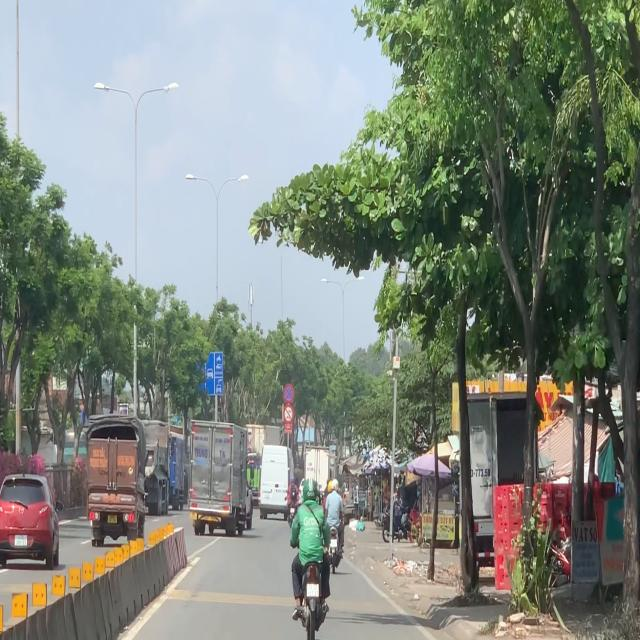Cam dung va do: (282, 382, 295, 404)
